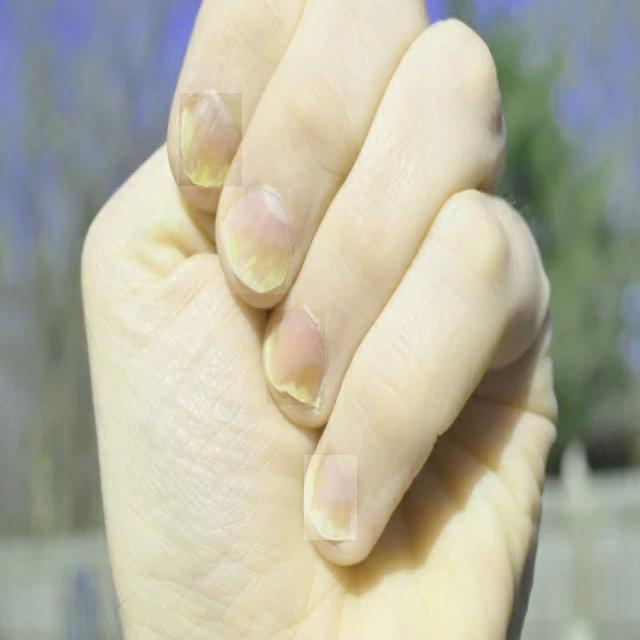diabetes: (223, 188, 292, 294), (180, 94, 242, 186), (267, 311, 325, 405), (304, 456, 357, 540)
